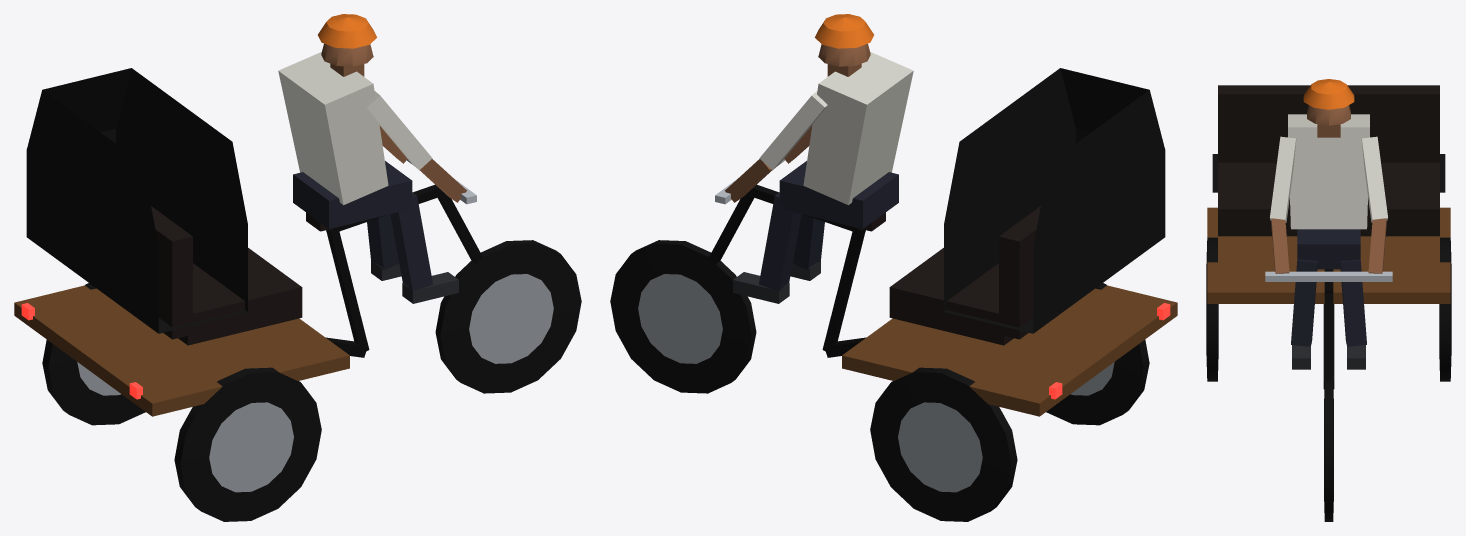
The model's file is cycle_rickshaw.glb.
3 renders of one model, left to right at view 1: azimuth 30°, elevation 25°; view 2: azimuth 150°, elevation 25°; view 3: azimuth 270°, elevation 25°, orthographic. The views are drawn at different scales.
Visible parts, largest first — view 1: cycle_rickshaw_body, wheel_rr.007, wheel_f.005, wheel_rl.007; view 2: cycle_rickshaw_body, wheel_rl.007, wheel_f.005, wheel_rr.007; view 3: cycle_rickshaw_body, wheel_f.005, wheel_rl.007, wheel_rr.007.
Boxes of the visible parts, left/top/right/bottom form: cycle_rickshaw_body: left=14, top=14, right=482, bottom=416; wheel_rr.007: left=174, top=367, right=321, bottom=521; wheel_f.005: left=435, top=240, right=581, bottom=393; wheel_rl.007: left=42, top=283, right=145, bottom=425; cycle_rickshaw_body: left=709, top=14, right=1177, bottom=416; wheel_rl.007: left=870, top=367, right=1017, bottom=521; wheel_f.005: left=610, top=240, right=756, bottom=393; wheel_rr.007: left=1046, top=283, right=1149, bottom=425; cycle_rickshaw_body: left=1207, top=79, right=1450, bottom=388; wheel_f.005: left=1324, top=378, right=1333, bottom=521; wheel_rl.007: left=1439, top=237, right=1451, bottom=381; wheel_rr.007: left=1206, top=237, right=1218, bottom=381.
Size of the model in its own units: 2.41 by 1.9 by 1.16.
Materials: 2 (1 with a texture image).
